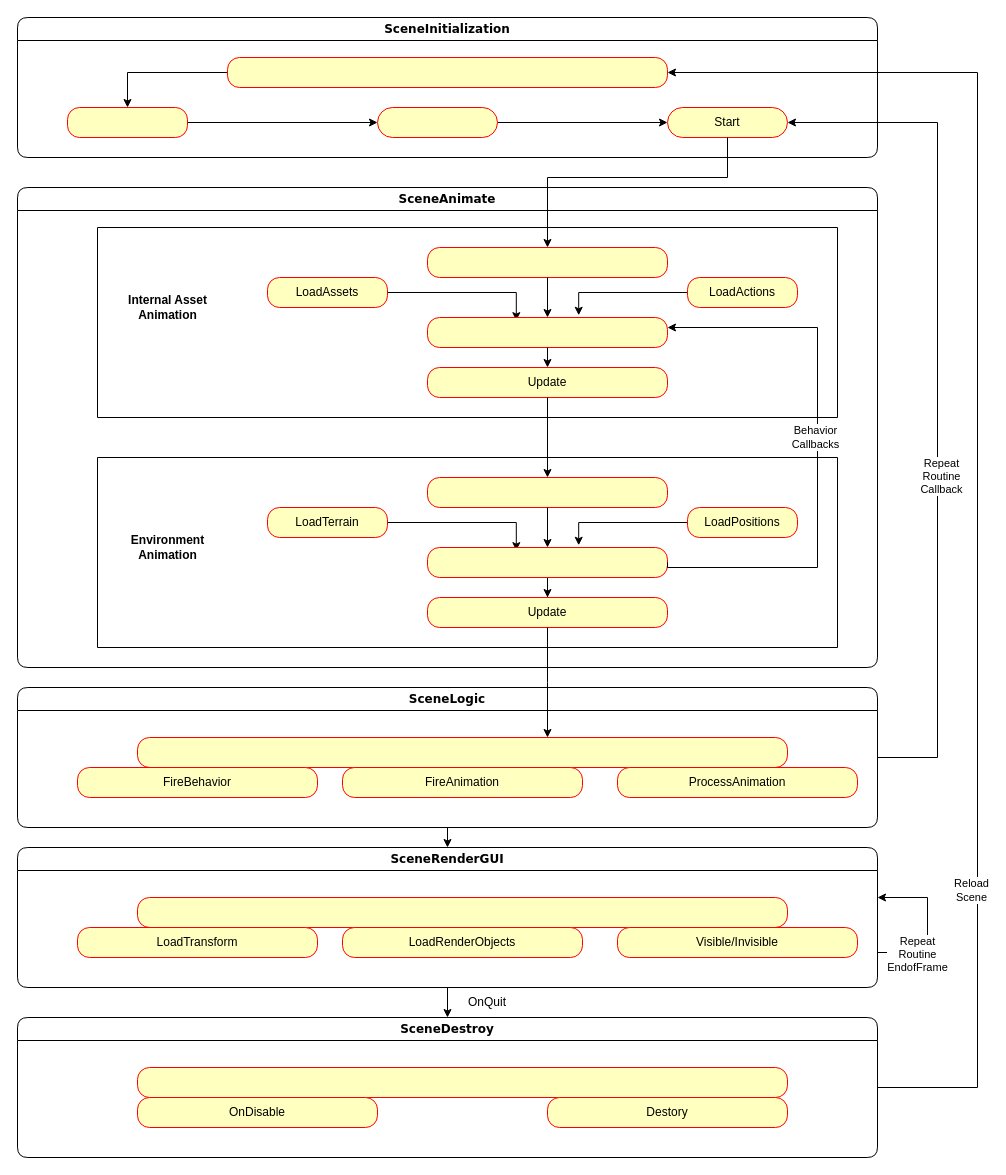
Some shapes in this 1006 by 1175 pixel diagram are drawn without their labels. The shapes that lost their labels are listed below. From the top down, each one's centre as x and y in pixels, then its label:
At (447,72): "OnLoadScene".
At (127,122): "Reset".
At (437,122): "OnEnable".
At (547,262): "SceneStateEntry".
At (547,332): "OnLoadBehavior".
At (547,492): "OnLoadEnvironment".
At (547,562): "FireAnimationTimer".
At (462,752): "Custom : Scene-Action Logic".
At (462,912): "RenderGUIbyFrame".
At (462,1082): "OnSceneQuit".
